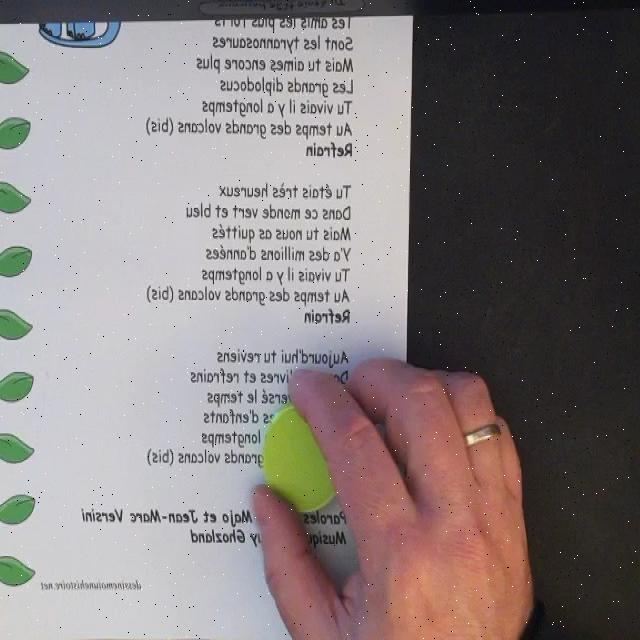round: (261, 402, 349, 514)
